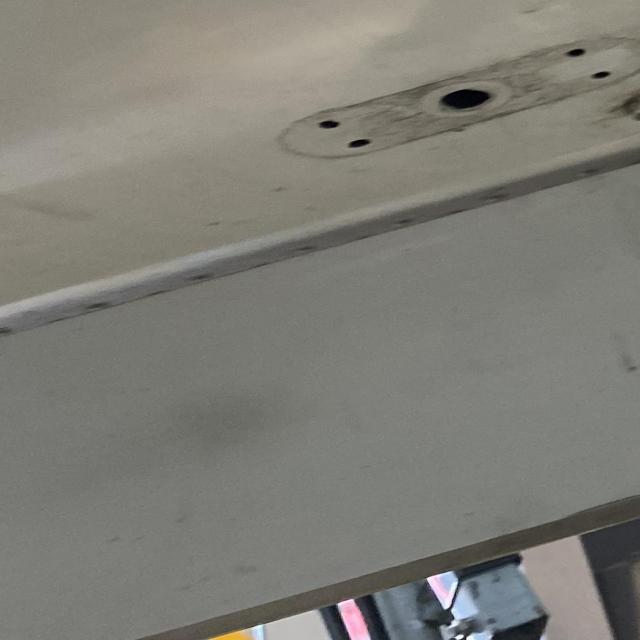Missing-head: (344, 135, 376, 152), (588, 69, 624, 83), (562, 46, 592, 60), (315, 117, 341, 132)
